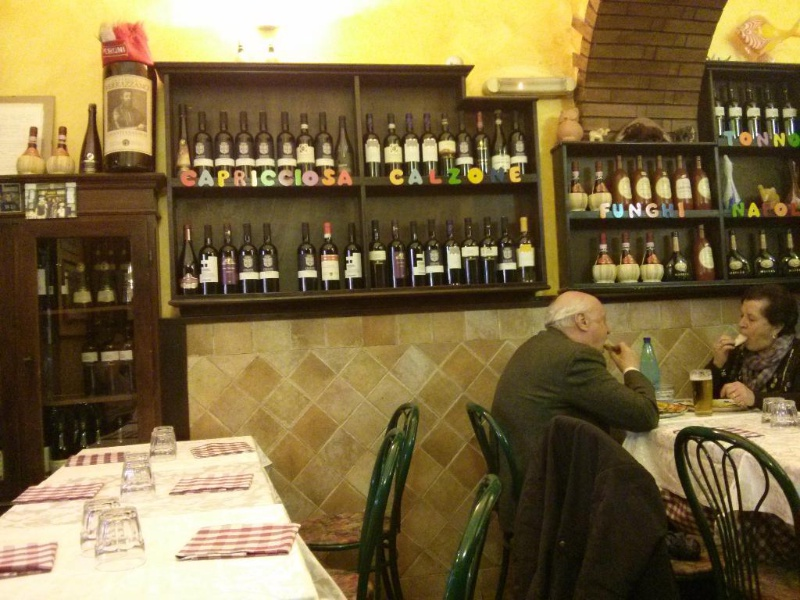wine: (171, 96, 535, 179), (173, 218, 542, 289), (9, 20, 155, 175), (36, 233, 139, 450), (710, 68, 800, 275), (569, 149, 714, 211), (586, 224, 721, 282)
